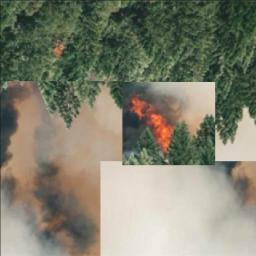Heavy smoke: (0, 83, 120, 252), (111, 166, 251, 254)
Small fire: (127, 92, 188, 162), (43, 35, 77, 63)
